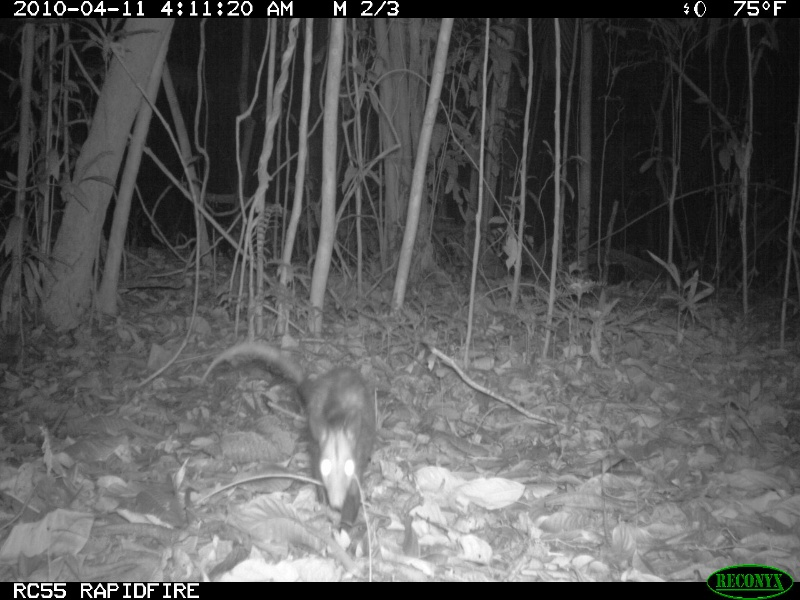opossum: (200, 338, 380, 537)
